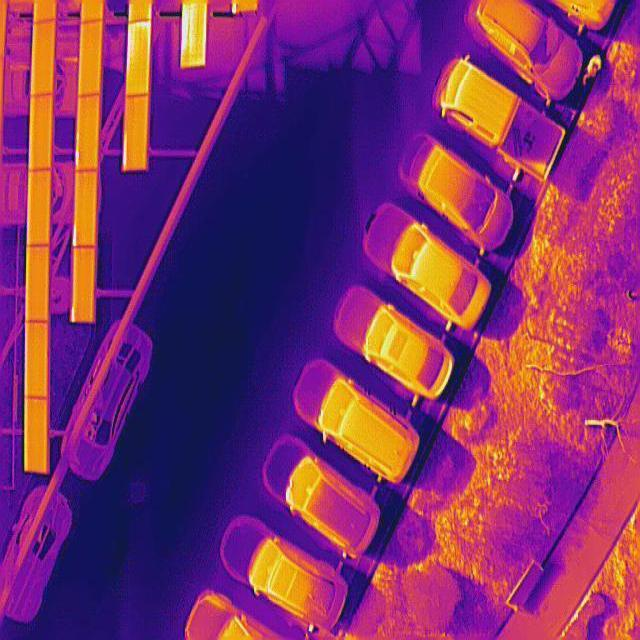No-Anomaly: (29, 21, 56, 94), (76, 95, 101, 173), (26, 169, 51, 246), (74, 168, 98, 248), (71, 245, 95, 324), (29, 94, 53, 171), (25, 321, 48, 400), (26, 245, 49, 321), (79, 22, 102, 98), (25, 400, 47, 472)
Unclassified: (126, 19, 150, 96), (124, 95, 148, 170), (179, 1, 205, 66)
